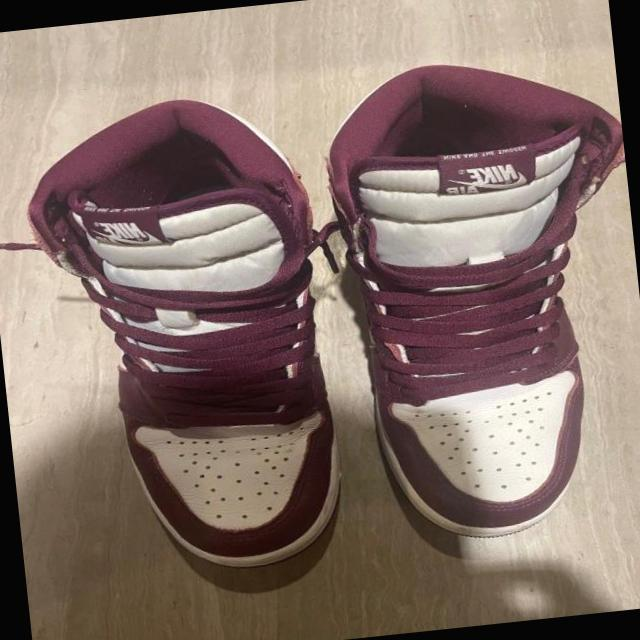nike_original_jordan: (15, 72, 357, 588), (314, 46, 640, 552)
